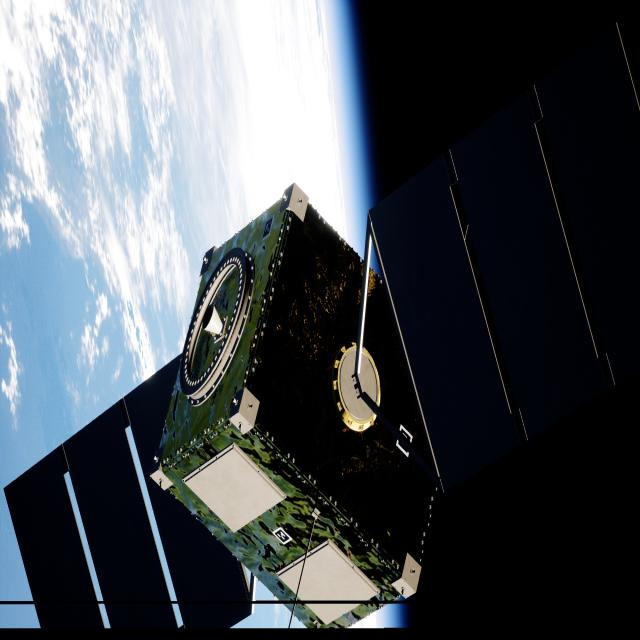satellite: (3, 23, 640, 640)
